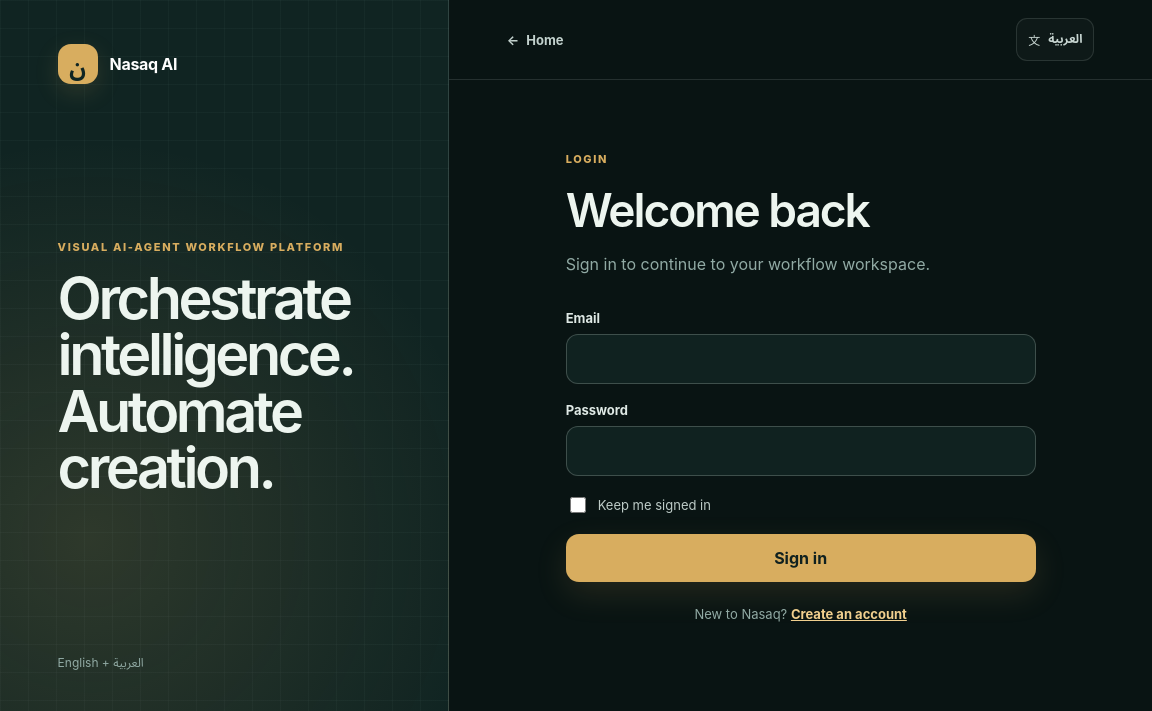
Nasaq application shell and persisted workflow editor › logs in and opens the requested protected route
Type "user@example.com" into the field labelled "Email". click: (801, 359)
box: [566,334,1036,384]
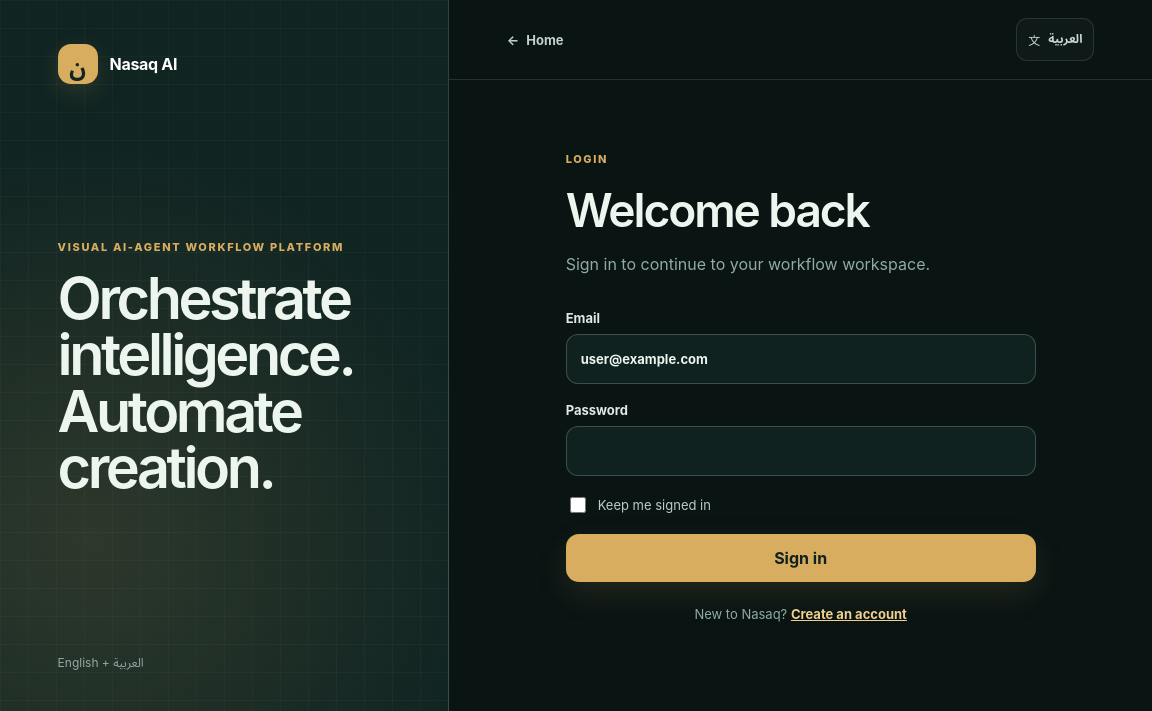
Type "NasaqPass2026" into the password field labelled "Password". click: (801, 451)
box: [566,426,1036,476]
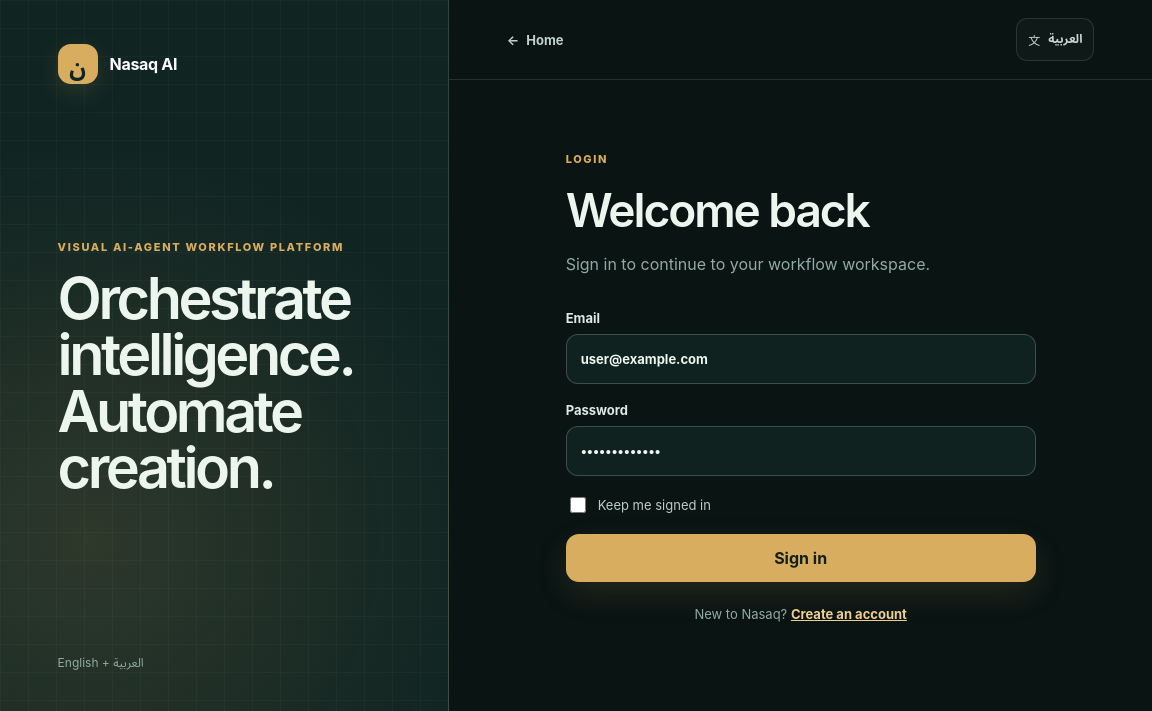
Click the button "Sign in". click: (801, 558)
box: [566,534,1036,582]
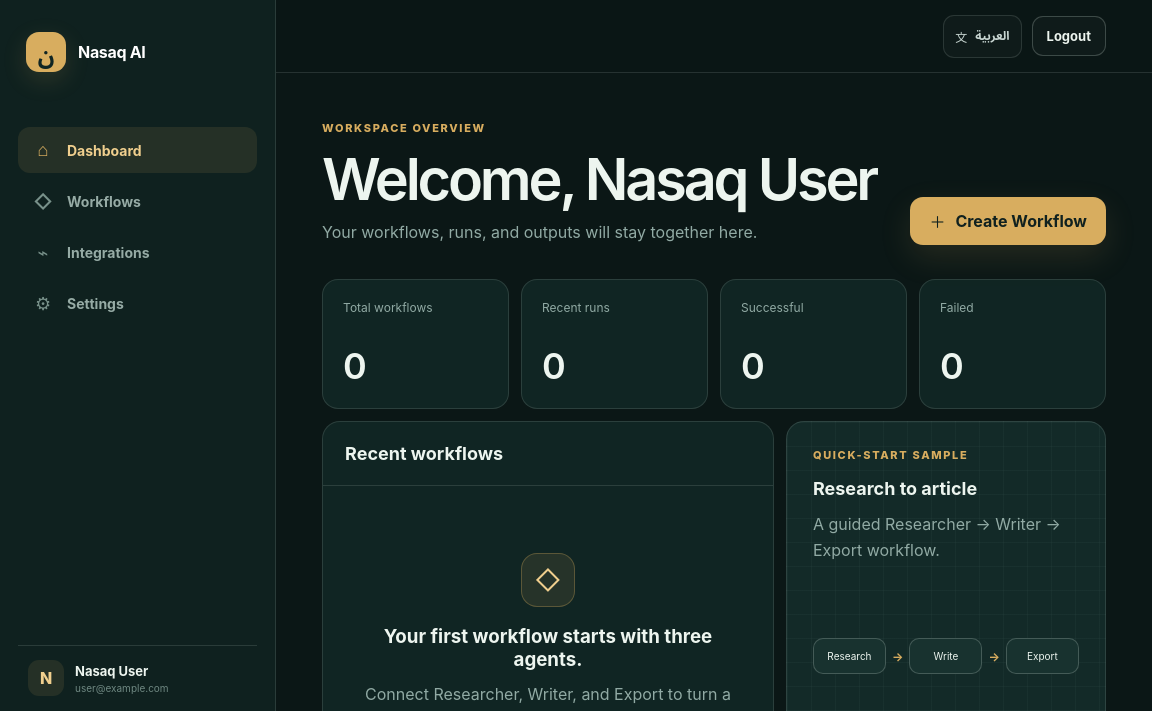
Expected: the heading "Welcome, Nasaq User" is shown, [322,151,876,209]
